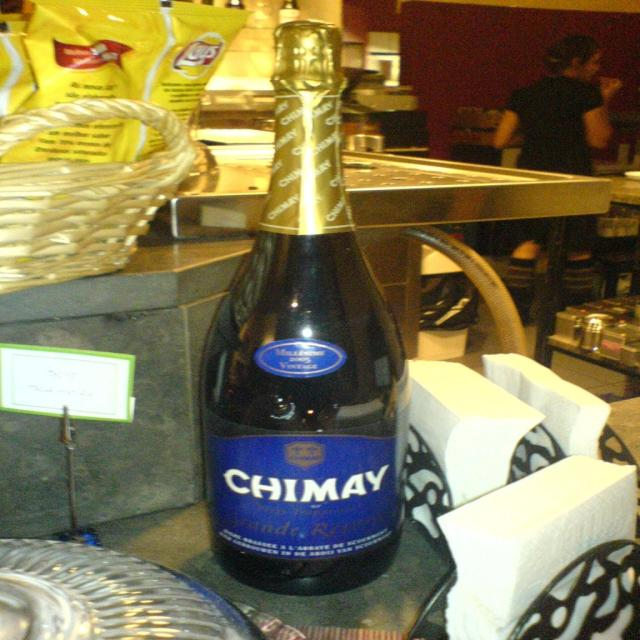chimay: (208, 435, 403, 559)
